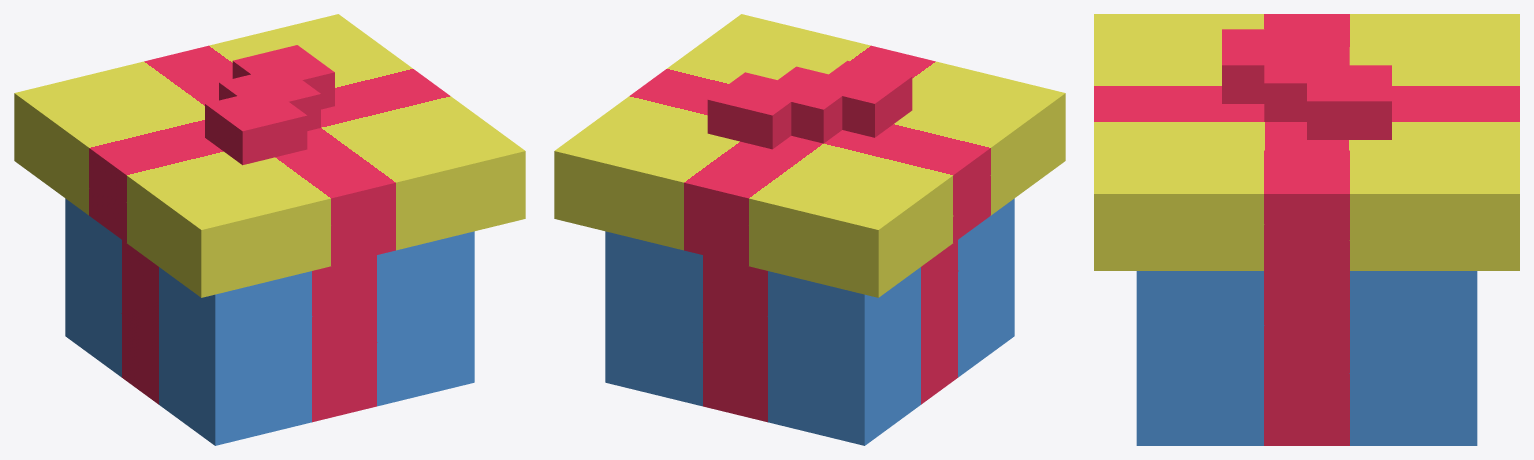
The model's file is item_gift_1.dae.
3 renders of one model, left to right at view 1: azimuth 30°, elevation 25°; view 2: azimuth 150°, elevation 25°; view 3: azimuth 270°, elevation 25°, orthographic. The views are drawn at different scales.
Visible parts, largest first — view 1: item_gift_1; view 2: item_gift_1; view 3: item_gift_1.
Boxes of the visible parts, x1,y1,x2,y2 form: item_gift_1: [14, 14, 525, 445]; item_gift_1: [554, 14, 1065, 445]; item_gift_1: [1094, 14, 1519, 445].
Bounding box in the file's own units: 1 × 0.8 × 1.
